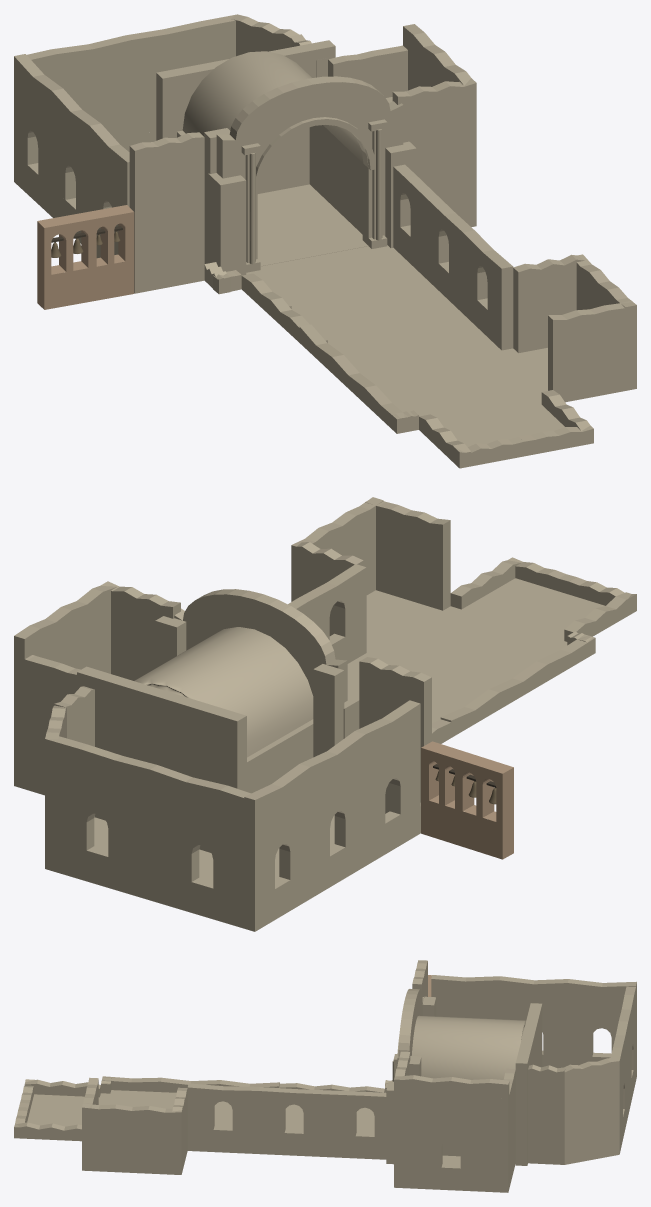
Rendered from mission-san-juan-capistrano-far.glb.
3 views of the same model, one above another, from view 1: azimuth 30°, elevation 25°; view 2: azimuth 150°, elevation 25°; view 3: azimuth 270°, elevation 25° (orthographic). The views are drawn at different scales.
Parts seen in each view (by area): view 1: mission-san-juan-capistrano-0-stone, mission-san-juan-capistrano-0-brick; view 2: mission-san-juan-capistrano-0-stone, mission-san-juan-capistrano-0-brick; view 3: mission-san-juan-capistrano-0-stone.
Boxes of the visible parts, left/top/right/bottom form: mission-san-juan-capistrano-0-stone: left=14, top=14, right=636, bottom=468; mission-san-juan-capistrano-0-brick: left=37, top=205, right=134, bottom=309; mission-san-juan-capistrano-0-stone: left=14, top=497, right=636, bottom=931; mission-san-juan-capistrano-0-brick: left=421, top=741, right=513, bottom=859; mission-san-juan-capistrano-0-stone: left=14, top=960, right=636, bottom=1192.
Bounding box in the file's own units: 34.65 × 13.62 × 58.45.
